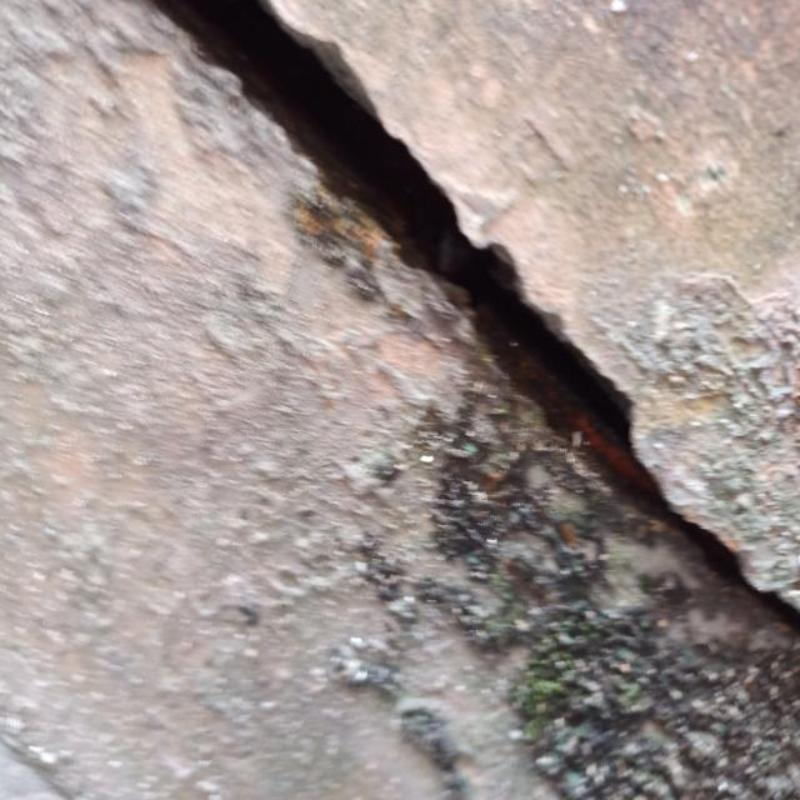crack: (156, 0, 800, 633)
